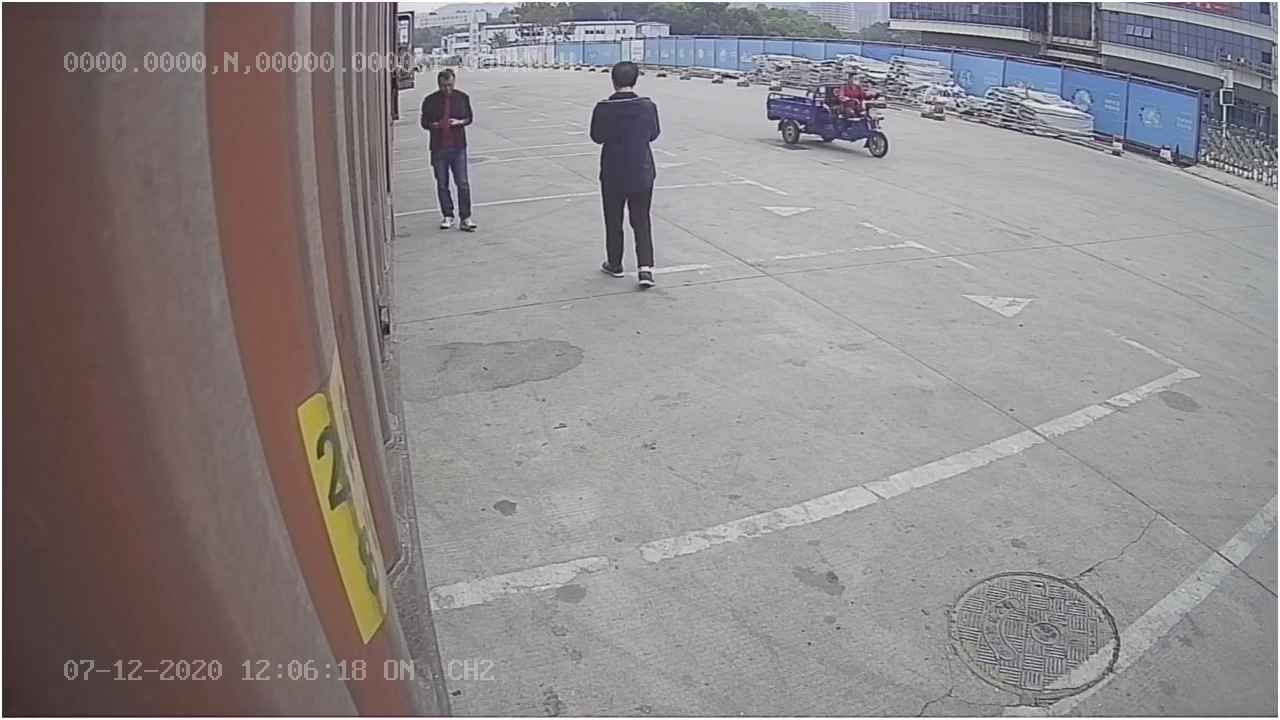person: (587, 58, 666, 289)
